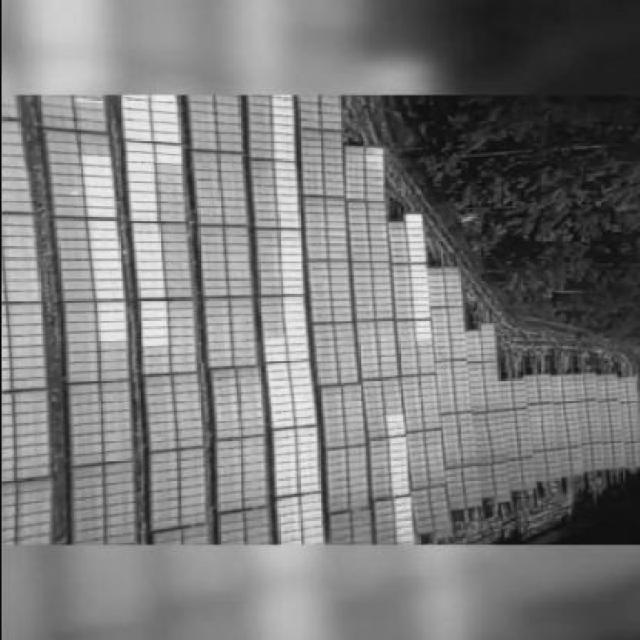diode: (124, 105, 151, 121), (80, 155, 112, 168), (153, 125, 178, 138), (89, 291, 123, 300), (153, 114, 178, 126), (156, 148, 181, 160), (124, 98, 148, 110), (89, 252, 117, 262), (91, 301, 122, 310), (90, 243, 115, 254), (126, 207, 156, 216), (98, 332, 125, 342), (94, 274, 120, 284), (142, 336, 168, 346), (97, 323, 125, 332), (89, 264, 117, 273), (86, 234, 114, 243), (82, 177, 110, 186), (125, 177, 153, 186), (133, 252, 164, 260), (94, 313, 121, 322), (85, 223, 112, 232), (85, 200, 112, 209), (156, 136, 178, 147), (134, 243, 164, 251), (272, 496, 296, 506), (140, 314, 165, 323), (139, 270, 164, 279), (137, 262, 165, 270), (125, 157, 153, 165), (125, 147, 153, 155), (283, 258, 305, 268), (295, 522, 317, 532), (266, 378, 288, 388), (275, 514, 297, 524), (275, 522, 297, 532), (95, 286, 122, 294), (141, 324, 165, 333), (131, 233, 158, 241), (274, 120, 298, 129), (267, 420, 291, 429), (294, 454, 315, 464), (262, 338, 283, 348), (84, 190, 110, 198), (138, 290, 164, 298), (152, 104, 175, 113), (125, 198, 154, 205), (275, 100, 297, 109), (283, 267, 305, 276), (270, 467, 292, 476), (296, 494, 318, 503), (83, 169, 111, 176), (125, 169, 153, 176), (68, 97, 100, 103), (142, 333, 166, 341), (139, 280, 163, 288), (272, 486, 296, 494), (269, 386, 288, 396), (125, 189, 152, 196), (271, 432, 292, 441), (271, 452, 292, 461), (277, 530, 298, 539), (125, 122, 148, 130), (275, 137, 297, 145), (288, 385, 310, 393), (296, 512, 318, 520), (275, 180, 294, 189), (409, 293, 428, 302), (276, 111, 295, 120), (283, 294, 302, 303), (295, 421, 314, 430), (292, 412, 311, 421), (266, 363, 285, 372), (272, 459, 291, 468), (388, 491, 407, 500), (289, 358, 306, 368), (152, 94, 176, 101), (127, 218, 155, 224), (272, 442, 293, 450), (85, 210, 112, 216), (129, 224, 156, 230), (125, 132, 152, 138), (285, 349, 303, 358), (291, 377, 309, 386), (297, 464, 315, 473), (126, 138, 152, 144), (276, 199, 298, 206), (283, 335, 305, 342), (292, 439, 314, 446), (295, 504, 317, 511), (283, 305, 305, 312), (285, 277, 304, 285), (295, 473, 314, 481), (139, 298, 164, 304), (265, 372, 286, 379), (141, 306, 165, 312), (407, 246, 425, 254), (410, 287, 428, 295), (277, 207, 295, 215), (282, 250, 300, 258), (295, 429, 313, 437), (265, 353, 283, 361), (390, 526, 408, 534), (275, 506, 293, 514), (157, 158, 180, 164), (274, 131, 297, 137), (383, 432, 400, 440), (278, 222, 297, 229), (388, 474, 407, 481), (276, 164, 298, 170), (282, 286, 304, 292), (296, 487, 318, 493), (298, 540, 320, 546), (412, 302, 428, 310), (277, 94, 298, 100), (275, 146, 296, 152), (277, 154, 295, 161), (277, 189, 295, 196), (278, 241, 299, 247), (291, 394, 312, 400), (262, 348, 283, 354), (270, 412, 288, 419), (272, 477, 293, 483), (274, 172, 294, 178), (405, 220, 420, 228), (283, 316, 302, 322), (286, 342, 305, 348), (288, 370, 307, 376), (299, 532, 318, 538), (268, 396, 287, 402), (269, 404, 288, 410), (285, 324, 304, 330), (119, 94, 147, 98), (408, 239, 422, 247), (412, 331, 428, 338), (388, 464, 404, 471), (293, 482, 315, 487), (408, 254, 426, 260), (408, 261, 426, 267), (284, 328, 302, 334), (281, 232, 299, 238), (290, 407, 308, 413), (295, 448, 313, 454), (382, 426, 400, 432), (364, 156, 382, 162), (385, 415, 400, 422), (391, 512, 406, 519), (389, 483, 406, 489), (389, 504, 406, 510), (411, 310, 427, 316), (388, 451, 404, 457), (391, 522, 407, 528), (411, 280, 426, 286), (294, 401, 309, 407), (387, 444, 402, 450), (404, 214, 419, 220), (389, 458, 402, 464), (404, 232, 422, 236), (415, 323, 427, 329), (280, 215, 298, 219), (362, 164, 380, 168), (390, 537, 407, 541), (413, 317, 429, 321), (410, 275, 425, 279), (409, 268, 423, 272), (393, 542, 407, 544)
hotspot: (372, 151, 381, 155)
